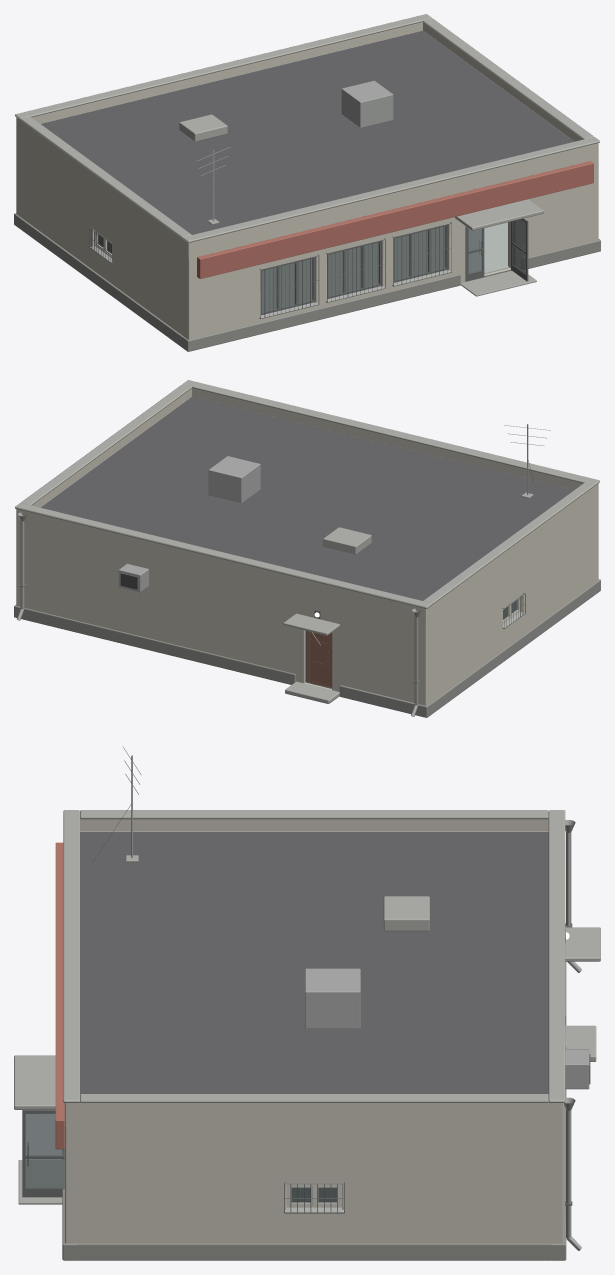
Rendered from Magazin_Produkty (4).fbx.
3 renders of one model, top to bottom at view 1: azimuth 30°, elevation 25°; view 2: azimuth 150°, elevation 25°; view 3: azimuth 270°, elevation 25°, orthographic. The views are drawn at different scales.
Visible parts, largest first — view 1: Produkty_Roof_ceiling, Produkty_Walls_near, Produkty_Storefront_near, Produkty_Walls_ceiling, Shop_tiled_floor, Produkty_DoorLeaf_2, Produkty_DoorLeaf_1, Produkty_Windows_near; view 2: Produkty_Roof_ceiling, Produkty_Walls, Produkty_Walls_near, Produkty_Walls_ceiling, Produkty_Entrance, Produkty_DoorLeaf_3, Produkty_Vent, Produkty_Drainpipes, Produkty_Drainpipes_near, Produkty_Windows_near; view 3: Produkty_Roof_ceiling, Produkty_Walls, Produkty_Walls_ceiling, Produkty_Storefront_near, Produkty_DoorLeaf_2, Produkty_Entrance, Produkty_Windows, Produkty_Vent, Produkty_Drainpipes, Produkty_Walls_near, Produkty_Drainpipes_near.
Boxes of the visible parts, x1,y1,x2,y2 form: Produkty_Roof_ceiling: (15, 14, 599, 242); Produkty_Walls_near: (16, 133, 600, 351); Produkty_Storefront_near: (197, 161, 593, 318); Produkty_Walls_ceiling: (16, 117, 598, 258); Shop_tiled_floor: (469, 222, 509, 273); Produkty_DoorLeaf_2: (511, 218, 528, 281); Produkty_DoorLeaf_1: (466, 227, 484, 281); Produkty_Windows_near: (89, 227, 112, 262); Produkty_Roof_ceiling: (15, 380, 599, 608); Produkty_Walls: (14, 525, 432, 717); Produkty_Walls_near: (425, 499, 600, 713); Produkty_Walls_ceiling: (16, 483, 598, 624); Produkty_Entrance: (283, 610, 339, 703); Produkty_DoorLeaf_3: (307, 631, 331, 687); Produkty_Vent: (118, 563, 148, 592); Produkty_Drainpipes: (16, 521, 25, 620); Produkty_Drainpipes_near: (411, 617, 419, 716); Produkty_Windows_near: (502, 593, 525, 628); Produkty_Roof_ceiling: (63, 746, 565, 1102); Produkty_Walls: (66, 961, 566, 1260); Produkty_Walls_ceiling: (64, 818, 563, 1125); Produkty_Storefront_near: (14, 842, 64, 1204); Produkty_DoorLeaf_2: (22, 1110, 64, 1197); Produkty_Entrance: (565, 927, 600, 1061); Produkty_Windows: (284, 1182, 344, 1213); Produkty_Vent: (565, 1049, 590, 1089); Produkty_Drainpipes: (565, 1110, 581, 1250); Produkty_Walls_near: (62, 1125, 77, 1260); Produkty_Drainpipes_near: (565, 832, 581, 972).
Size of the model in its own units: 15.01 by 6.1 by 12.71.
